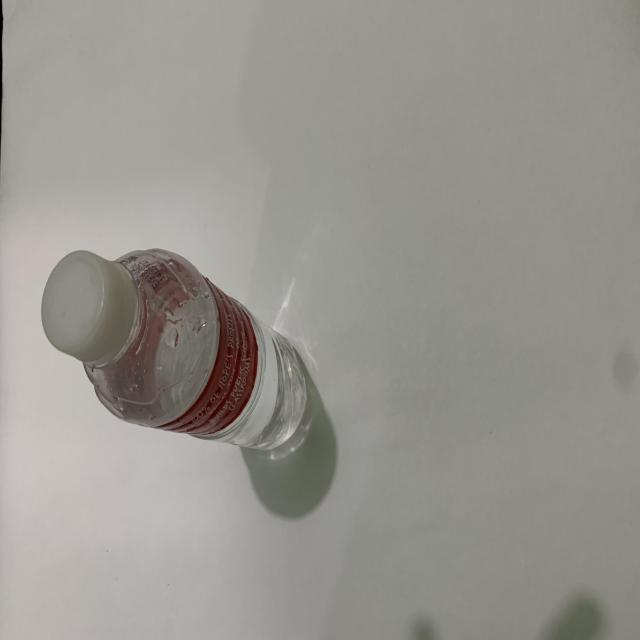bottle: (39, 225, 342, 500)
